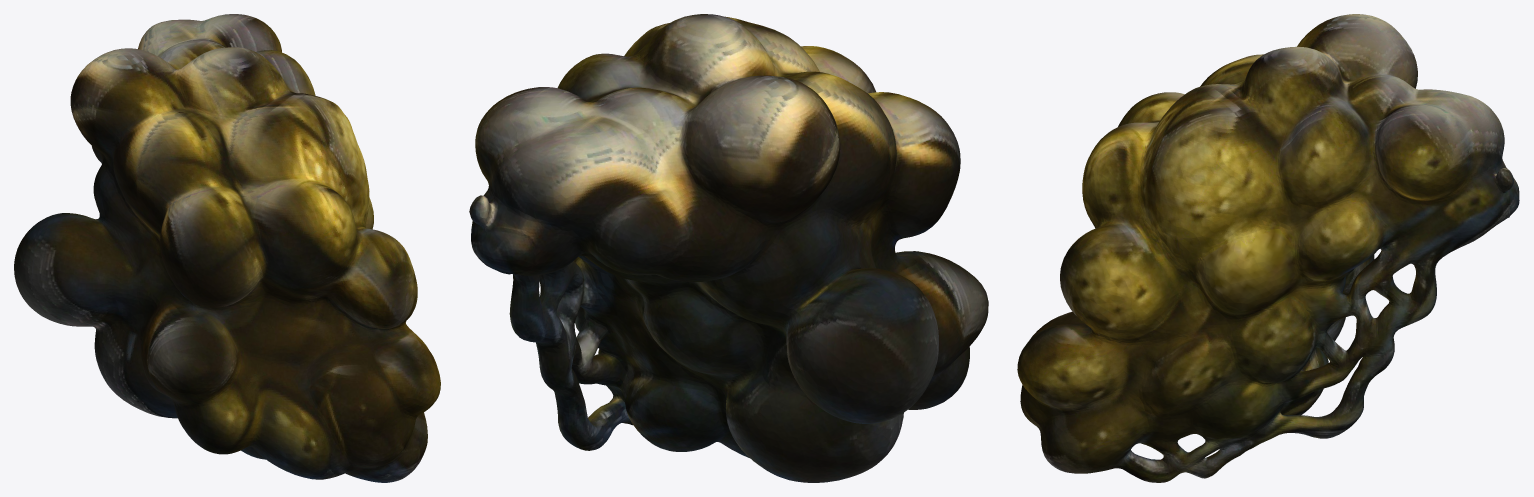
File: extradimensional_fungus.glb
3 views of the same model, side by side, from view 1: azimuth 30°, elevation 25°; view 2: azimuth 150°, elevation 25°; view 3: azimuth 270°, elevation 25° (orthographic). The views are drawn at different scales.
Size of the model in its own units: 1.47 by 1.71 by 1.98.
Materials: 1 (1 with a texture image).
